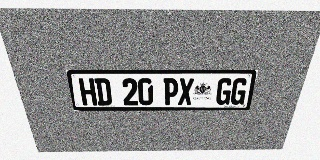0: (137, 78, 153, 105)
2: (122, 78, 138, 105)
D: (94, 78, 112, 105)
G: (229, 78, 249, 105), (215, 78, 233, 105)
H: (78, 78, 97, 106)
P: (163, 78, 179, 105)
X: (178, 78, 194, 105)
